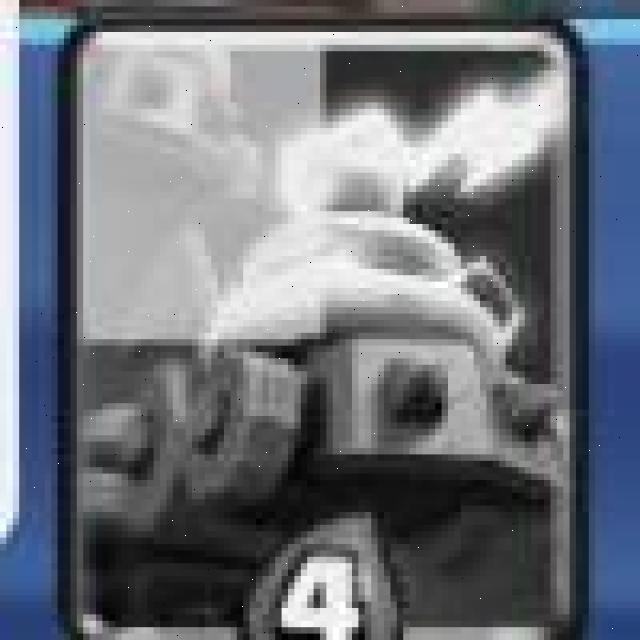Zappies: (69, 11, 589, 640)
